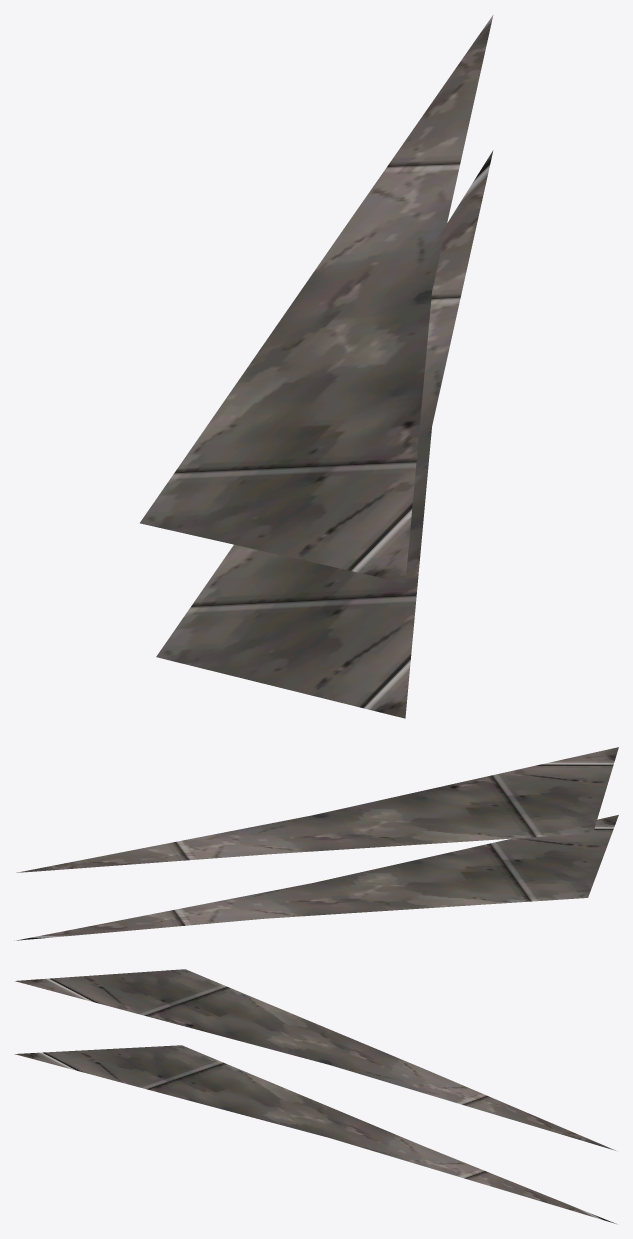
File: CH09_SMAUG_PLAYSURFACE_LAIR43.fbx
The picture shows the model from 3 angles, top to bottom: view 1: azimuth 30°, elevation 25°; view 2: azimuth 150°, elevation 25°; view 3: azimuth 270°, elevation 25°; orthographic projection. The views are drawn at different scales.
Visible parts, largest first — view 1: CH09_SMAUG_PLAYSURFACE_LAIR43; view 2: CH09_SMAUG_PLAYSURFACE_LAIR43; view 3: CH09_SMAUG_PLAYSURFACE_LAIR43.
Part boxes in pixels (x1=…): CH09_SMAUG_PLAYSURFACE_LAIR43: x1=140, y1=15, x2=493, y2=718; CH09_SMAUG_PLAYSURFACE_LAIR43: x1=14, y1=747, x2=618, y2=940; CH09_SMAUG_PLAYSURFACE_LAIR43: x1=14, y1=969, x2=617, y2=1223.
Size of the model in its own units: 35671 by 7433 by 45841.
1 material, 1 textured.
